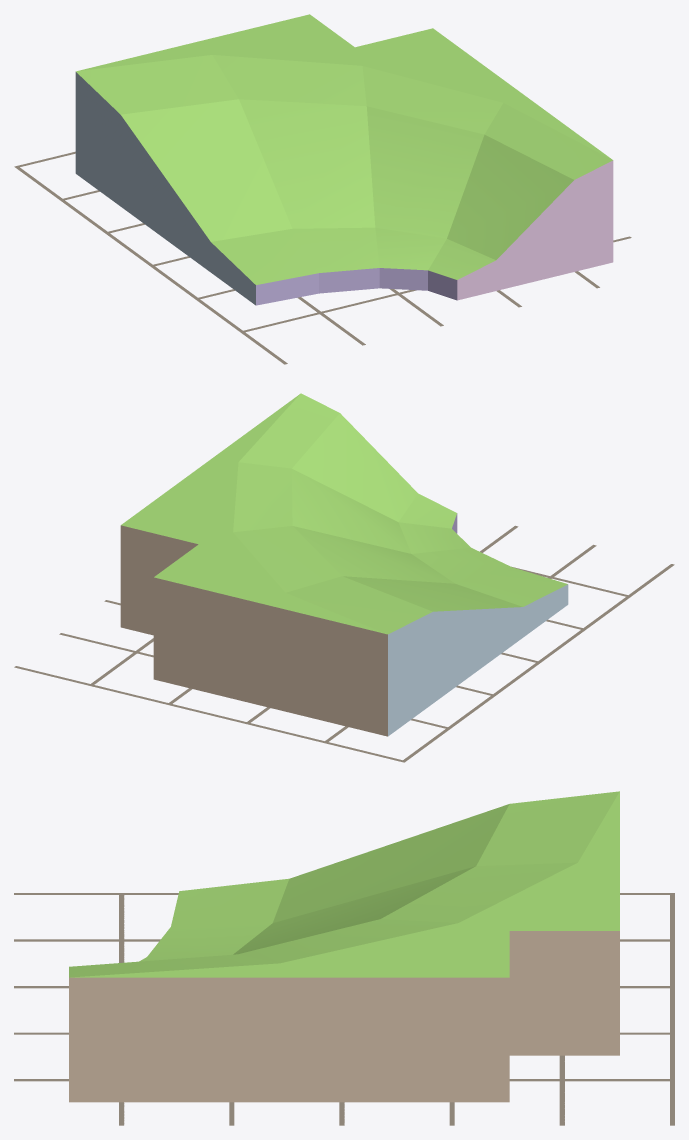
File: Grass_Hill_Grade_Transition_Curve_Inner_4x5.glb
3 views of the same model, one above another, from view 1: azimuth 30°, elevation 25°; view 2: azimuth 150°, elevation 25°; view 3: azimuth 270°, elevation 25° (orthographic). The views are drawn at different scales.
Visible parts, largest first — view 1: Grass_Hill_Grade_Transition_Curve_Inner_4x5, Floor; view 2: Grass_Hill_Grade_Transition_Curve_Inner_4x5, Floor; view 3: Grass_Hill_Grade_Transition_Curve_Inner_4x5, Floor.
Boxes of the visible parts, bbox=[...] form: Grass_Hill_Grade_Transition_Curve_Inner_4x5: bbox=[75, 14, 613, 305]; Floor: bbox=[14, 151, 631, 364]; Grass_Hill_Grade_Transition_Curve_Inner_4x5: bbox=[120, 393, 568, 736]; Floor: bbox=[14, 525, 674, 762]; Grass_Hill_Grade_Transition_Curve_Inner_4x5: bbox=[69, 791, 619, 1102]; Floor: bbox=[14, 893, 674, 1125].
Bounding box in the file's own units: 500 × 125 × 600.
7 materials, 1 textured.
